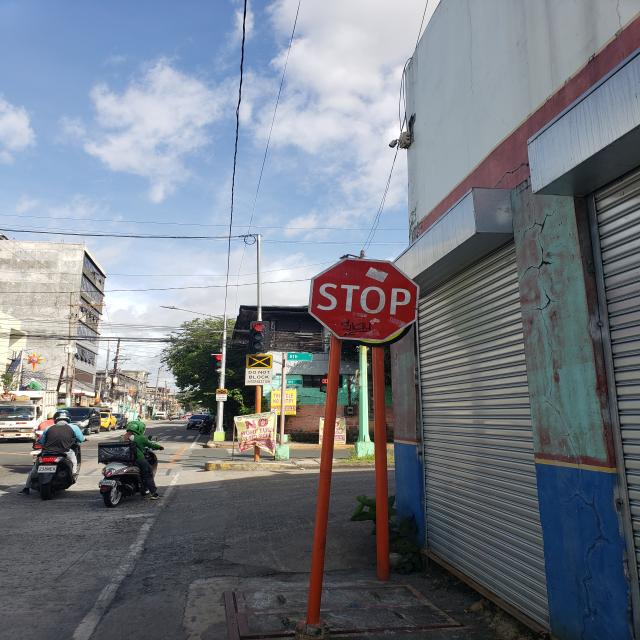stop-sign: (308, 257, 420, 342)
